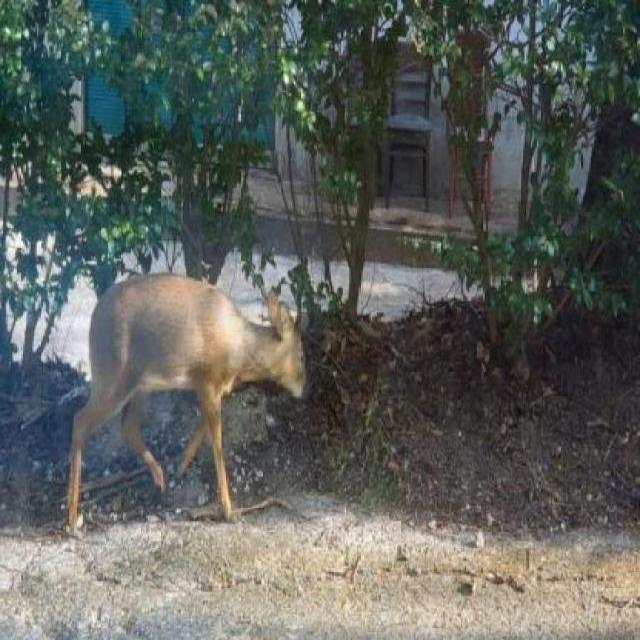deer: (64, 272, 316, 543)
